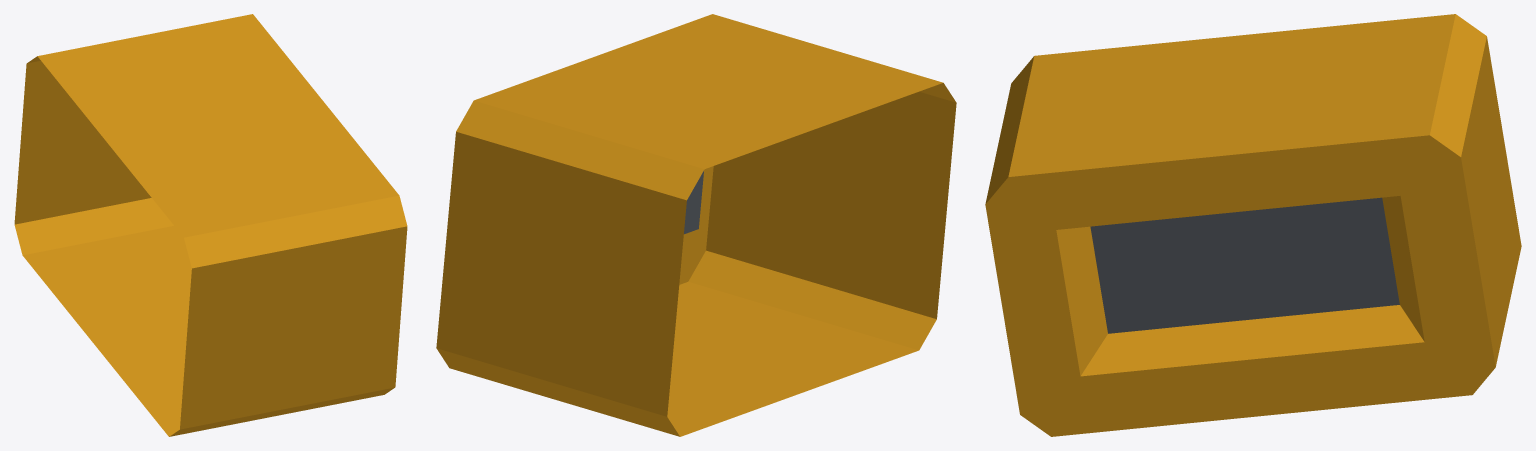
File: Personal_Vehicle_01_Detail_3_Yellow.fbx
3 renders of one model, left to right at view 1: azimuth 30°, elevation 25°; view 2: azimuth 150°, elevation 25°; view 3: azimuth 270°, elevation 25°, orthographic. The views are drawn at different scales.
Parts seen in each view (by area): view 1: Personal_Vehicle_01_Detail_3_Yellow; view 2: Personal_Vehicle_01_Detail_3_Yellow; view 3: Personal_Vehicle_01_Detail_3_Yellow.
Part boxes in pixels (box(x1,y1,x2,y2)): Personal_Vehicle_01_Detail_3_Yellow: box(14, 14, 407, 436); Personal_Vehicle_01_Detail_3_Yellow: box(436, 14, 956, 436); Personal_Vehicle_01_Detail_3_Yellow: box(985, 14, 1521, 436).
Size of the model in its own units: 17.9 by 18.75 by 28.82.
Materials: 1 (1 with a texture image).
